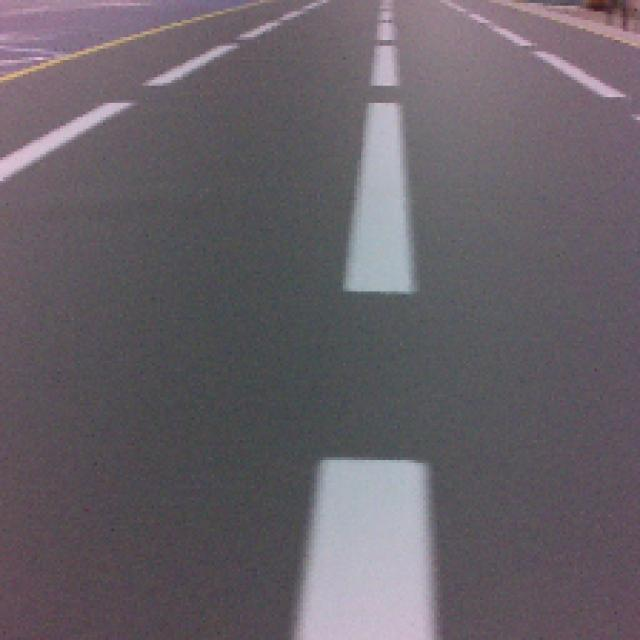Pedestrian crosswalk: (297, 458, 442, 638)
